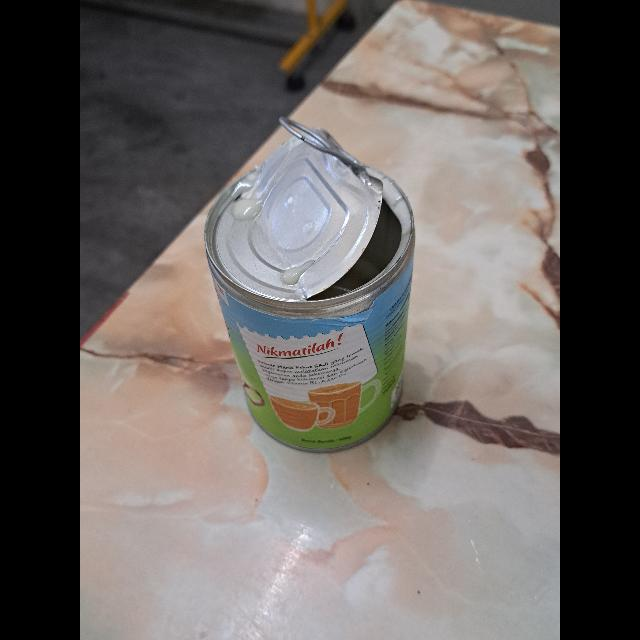aba de lata: (280, 115, 366, 177)
lata: (203, 115, 414, 452)
